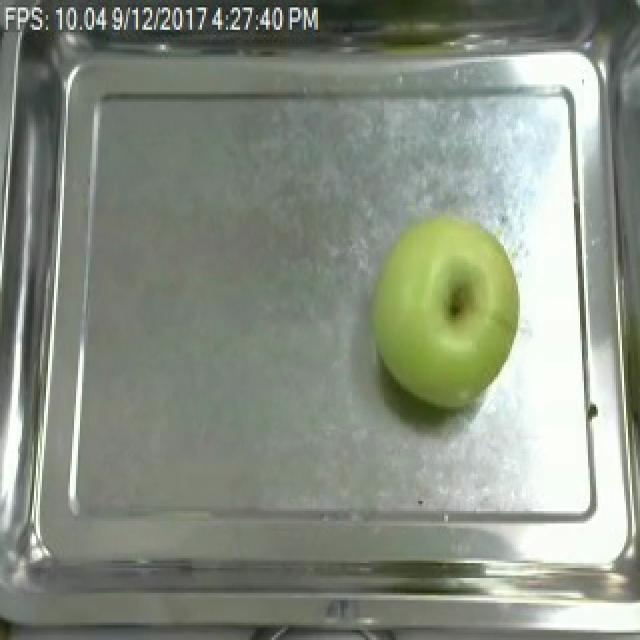50-_ripeness: (372, 202, 516, 404)
